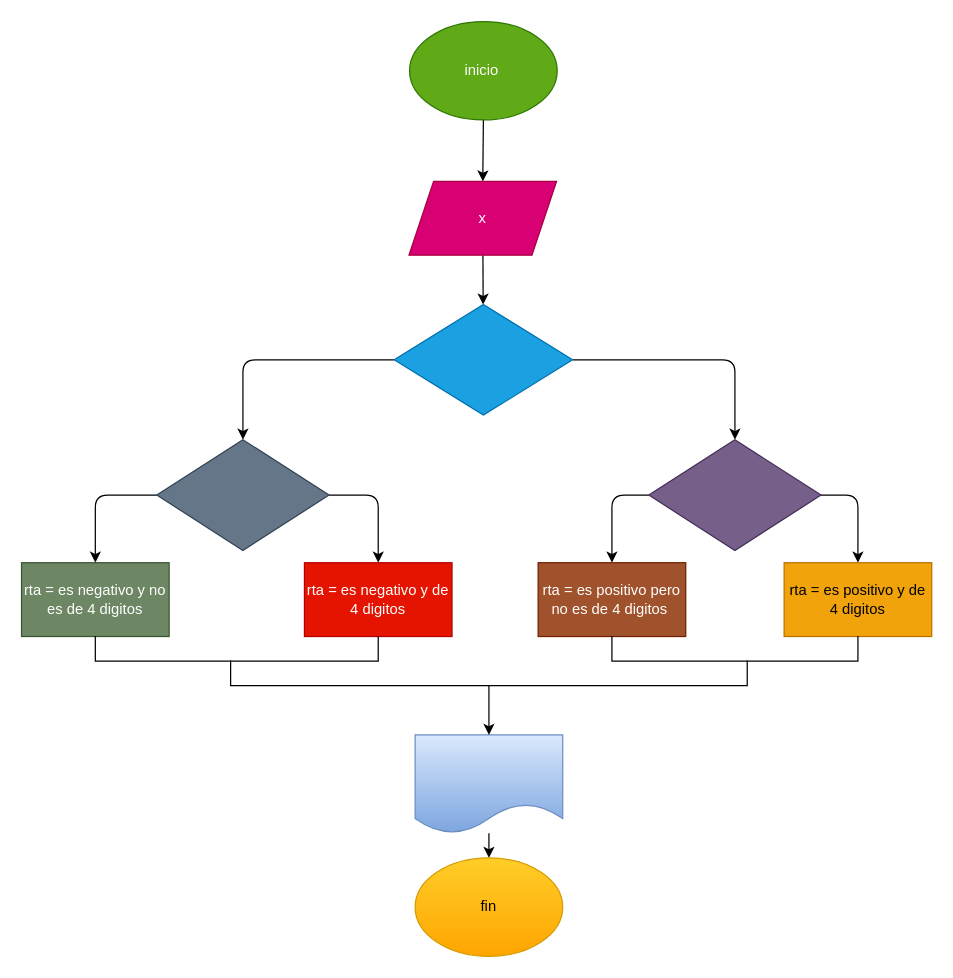
Image size: 953x978. Some labels were removed from this diagram. The shapes that lost their labels are listed below. From the top down, each one's centre as x and y in pixels, then its label:
(483,359): x>0
(242,494): x < -999 && x > -10000
(734,494): x >999 && x<10000
(488,783): rta
